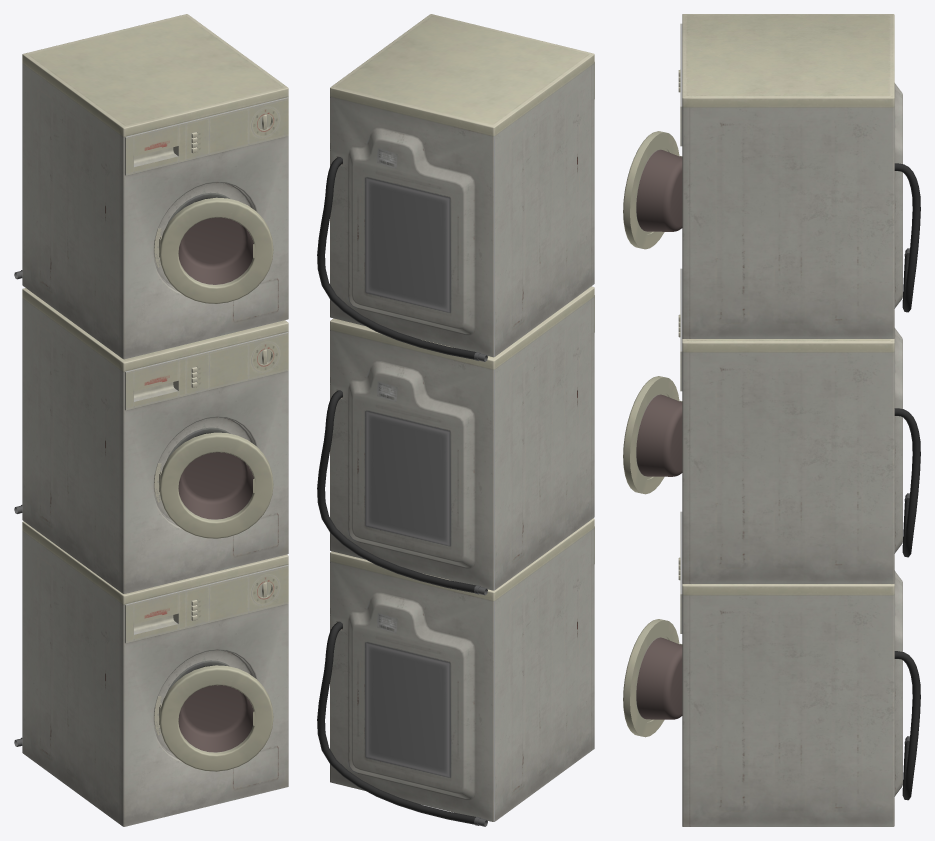
3 views of the same model, side by side, from view 1: azimuth 30°, elevation 25°; view 2: azimuth 150°, elevation 25°; view 3: azimuth 270°, elevation 25° (orthographic). The views are drawn at different scales.
Parts seen in each view (by area): view 1: body_low.002, body_low.001, body_low, door_low, door_low.001, door_low.002; view 2: body_low.002, body_low.001, body_low, cable_low.001, cable_low.002, cable_low; view 3: body_low.002, body_low.001, body_low, door_low, door_low.001, door_low.002, cable_low, cable_low.001, cable_low.002.
Part boxes in pixels (x1,y1,x2,y2): body_low.002: (22, 14, 288, 359); body_low.001: (22, 288, 288, 593); body_low: (22, 521, 288, 826); door_low: (159, 665, 273, 771); door_low.001: (159, 432, 273, 538); door_low.002: (159, 197, 273, 303); body_low.002: (330, 14, 594, 357); body_low.001: (330, 286, 594, 590); body_low: (330, 518, 594, 821); cable_low.001: (317, 390, 487, 595); cable_low.002: (317, 157, 487, 361); cable_low: (317, 621, 487, 826); body_low.002: (680, 14, 902, 338); body_low.001: (680, 268, 902, 583); body_low: (680, 511, 902, 826); door_low: (623, 619, 682, 737); door_low.001: (623, 376, 682, 494); door_low.002: (623, 131, 682, 249); cable_low: (894, 651, 920, 800); cable_low.001: (894, 408, 920, 557); cable_low.002: (894, 163, 920, 312).
Size of the model in its own units: 1.37 by 5.44 by 2.
3 materials, 3 textured.
